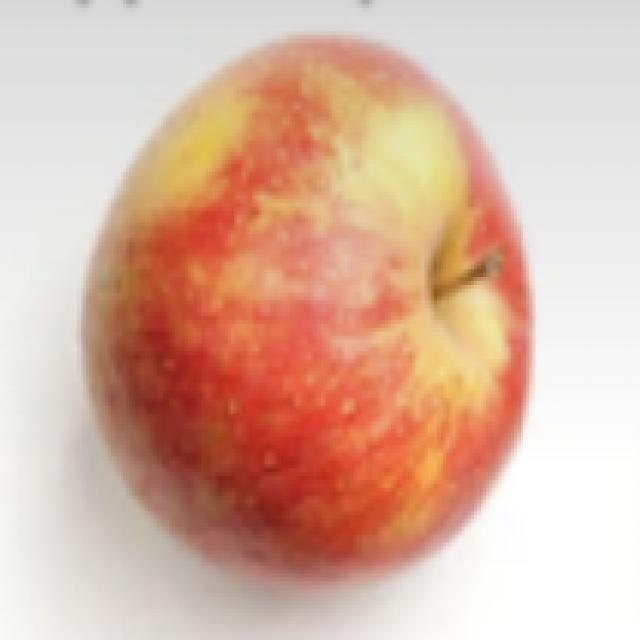Fresh Apple: (95, 50, 535, 563)
